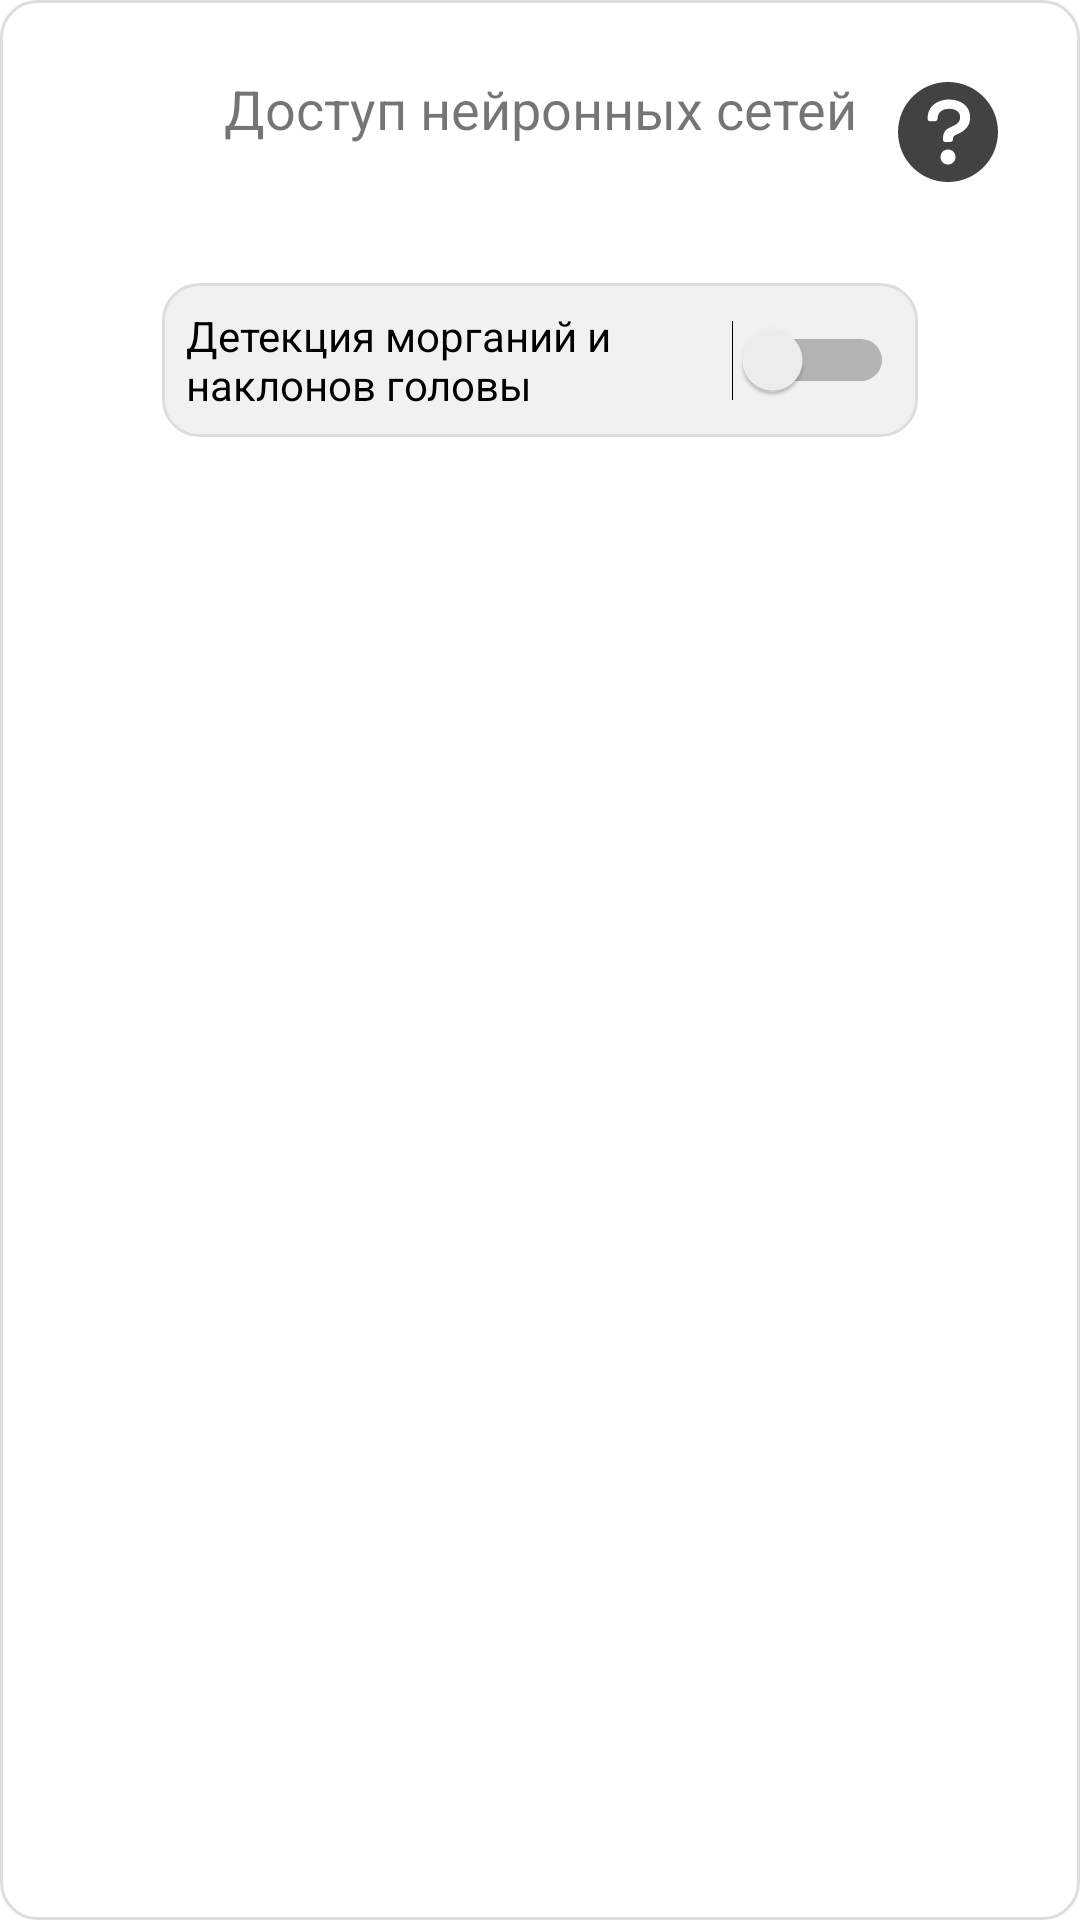

Locate icon controls on the screen. Image size 1080w x 1920h, boxes as [left=x1, top=y1, right=x2, bottom=y2].
help: [left=898, top=82, right=998, bottom=182]
